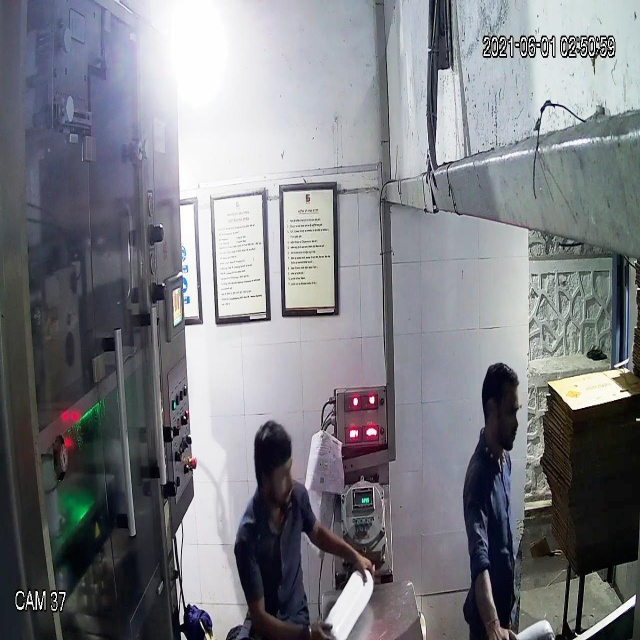Sin_gafas: (246, 456, 298, 492), (483, 393, 529, 427)
